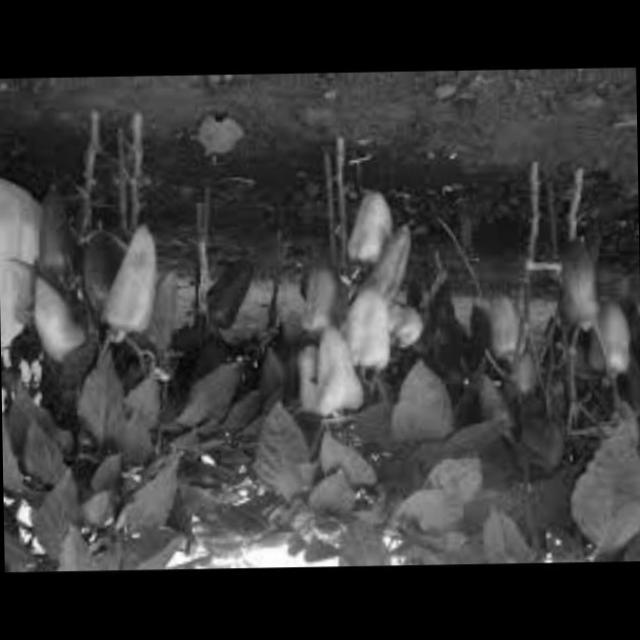bell pepper: (22, 172, 88, 300), (480, 294, 550, 394), (27, 272, 94, 374), (338, 281, 400, 382), (110, 228, 163, 342), (364, 218, 419, 318), (558, 225, 606, 328), (580, 294, 629, 389), (146, 262, 187, 374), (315, 332, 367, 418), (349, 181, 402, 265), (202, 258, 258, 336), (82, 233, 131, 317), (296, 270, 349, 343), (0, 250, 41, 328), (286, 347, 324, 422), (377, 298, 427, 352)
